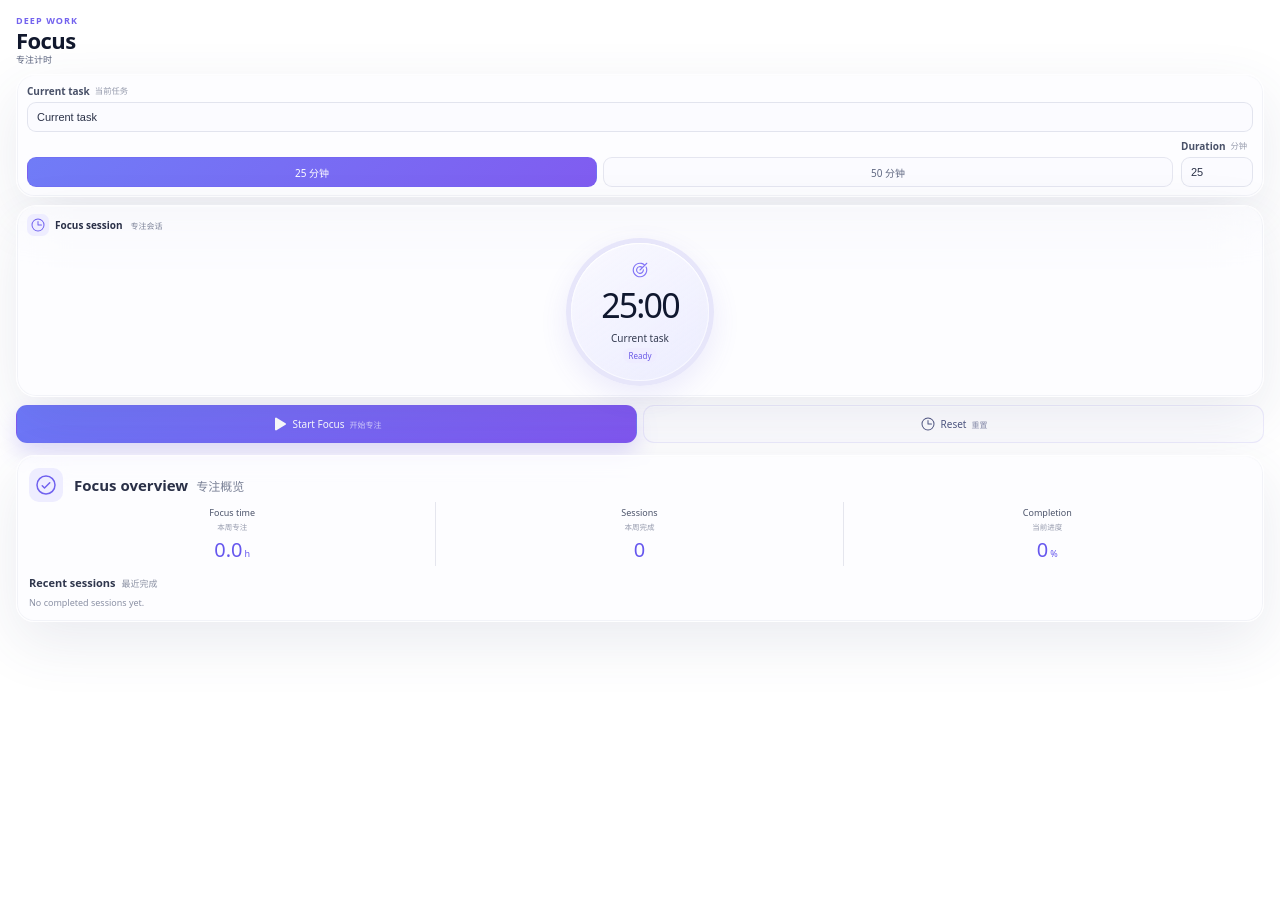
FocusPage › keeps the focus actions inside the queryable above-fold layout
Expected: the heading "Focus" is shown, left=16, top=25, right=76, bottom=55
Expected: the field labelled "Current task 当前任务" is shown, left=27, top=102, right=1253, bottom=132
What coordinates should you click on to do the following:
click the button "Start Focus 开始专注"
I would click on:
 (326, 424)
Its box is left=16, top=405, right=637, bottom=443.
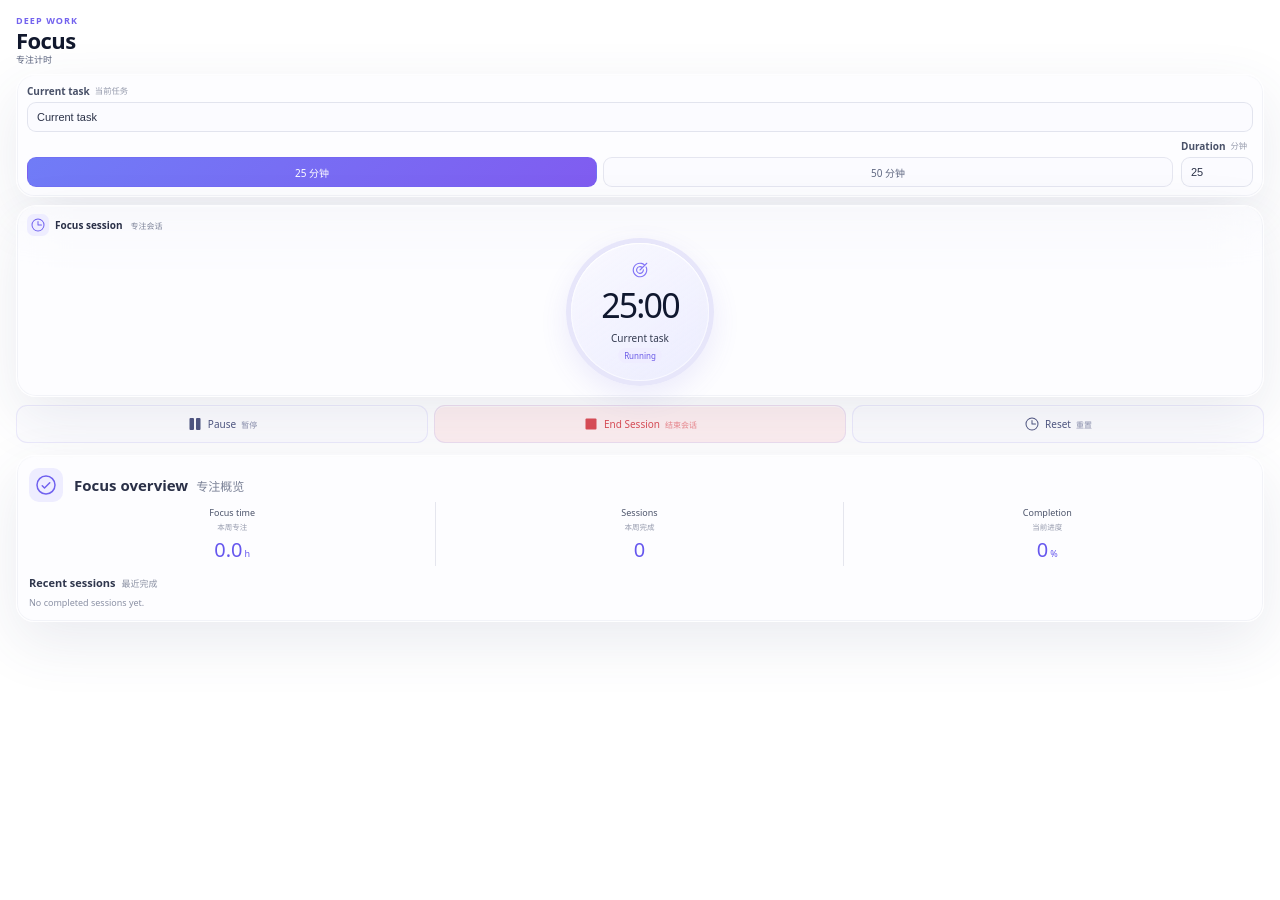
Expected: the button "Reset 重置" is shown, left=852, top=405, right=1264, bottom=443
Now the button "Pause 暂停" is shown, box left=16, top=405, right=428, bottom=443
Now the button "End Session 结束会话" is shown, box left=434, top=405, right=846, bottom=443
